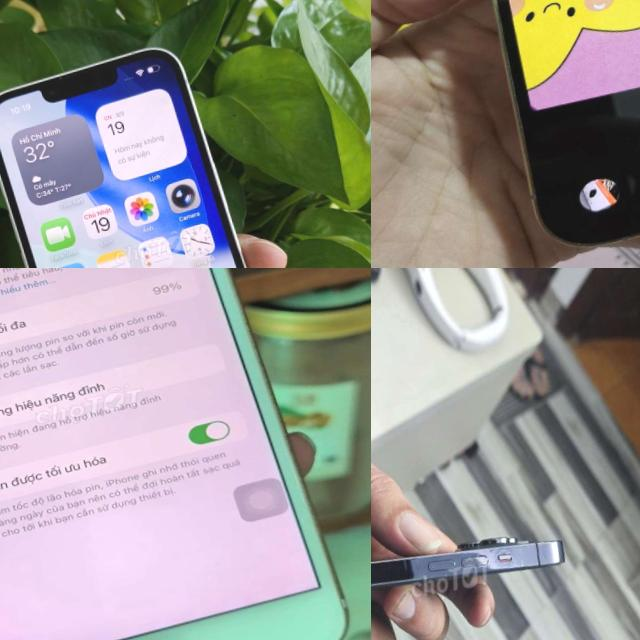scratch: (296, 589, 330, 620), (516, 542, 527, 576), (129, 635, 167, 640)
